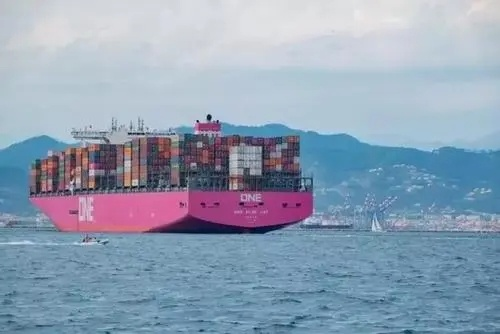Cargoship: (25, 117, 319, 236)
